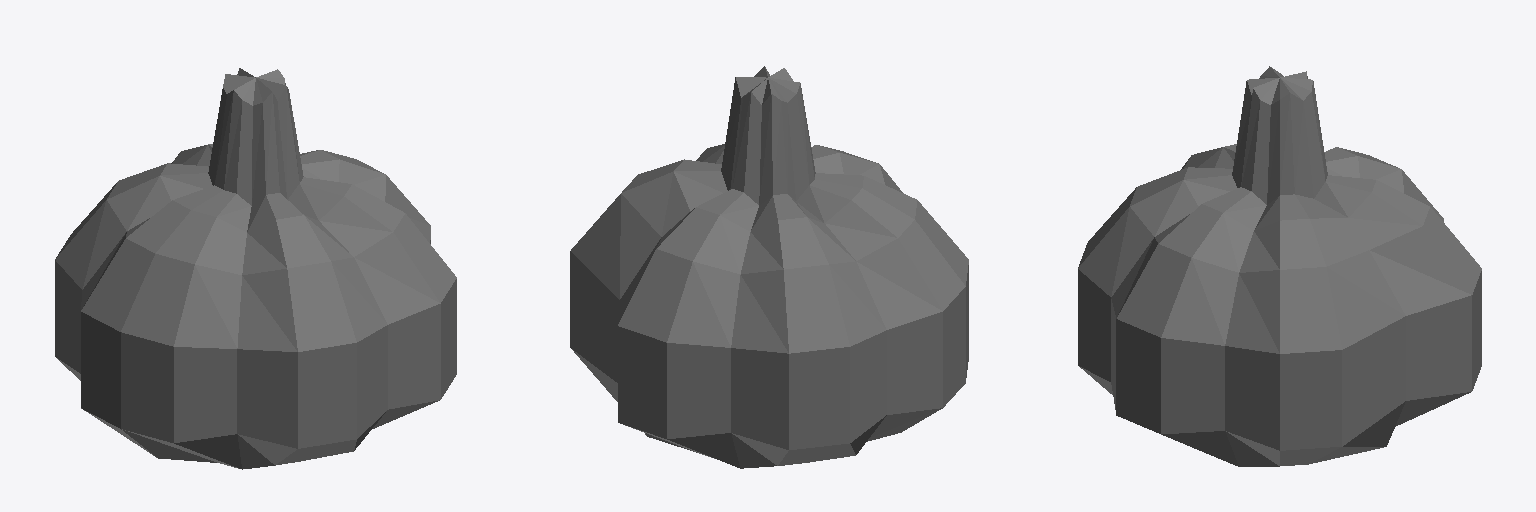
Rendered from garlic.obj.
The picture shows the model from 3 angles: view 1: azimuth 30°, elevation 25°; view 2: azimuth 150°, elevation 25°; view 3: azimuth 270°, elevation 25°; orthographic projection.
Visible parts, largest first — view 1: pSphere1; view 2: pSphere1; view 3: pSphere1.
Part boxes in pixels (bbox=[...]): pSphere1: bbox=[55, 68, 456, 469]; pSphere1: bbox=[570, 66, 968, 468]; pSphere1: bbox=[1078, 66, 1481, 466].
Size of the model in its own units: 0.2126 by 0.207 by 0.2126.